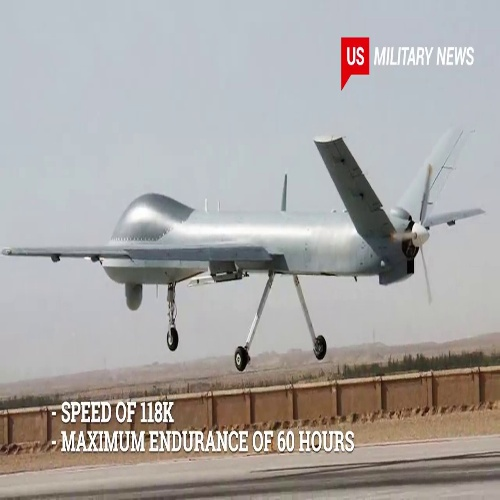uav363: (2, 126, 485, 367)
